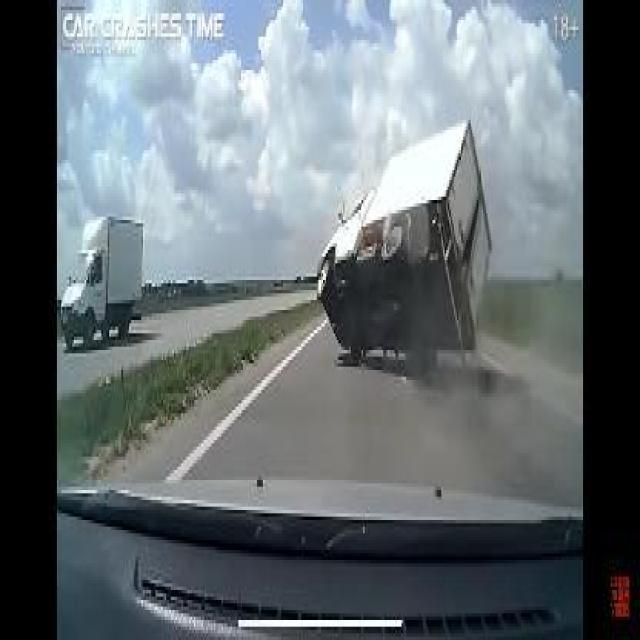accident: (294, 90, 551, 387)
